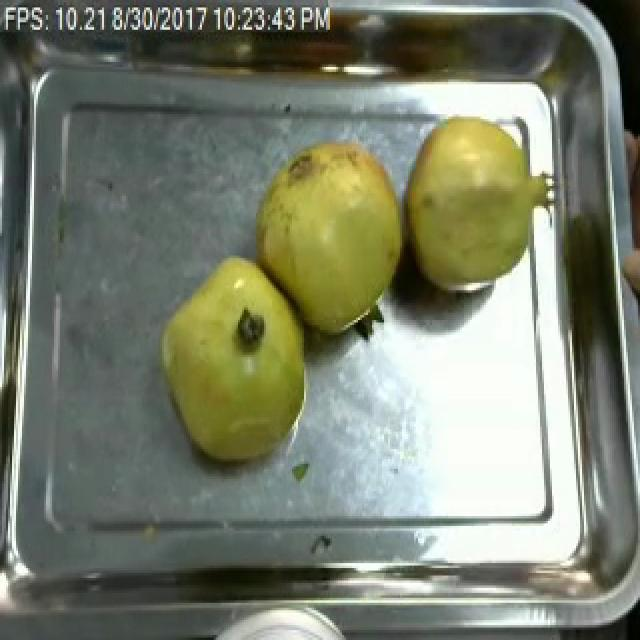fruit: (148, 246, 314, 474), (244, 129, 408, 347), (400, 104, 574, 305)
